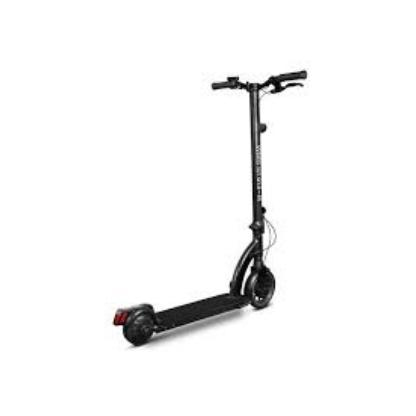bike: (112, 68, 308, 348)
